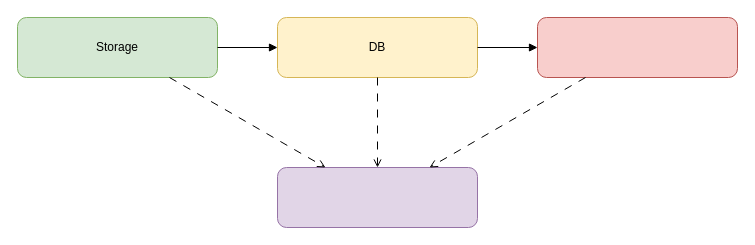
Some shapes in this 755 by 245 pixel diagram are drawn without their labels. The box of each missing label's shape, as (x1, y1, x2, y2) in pixels:
Aspects: (276, 166, 478, 228)
Cursor: (536, 16, 738, 78)
